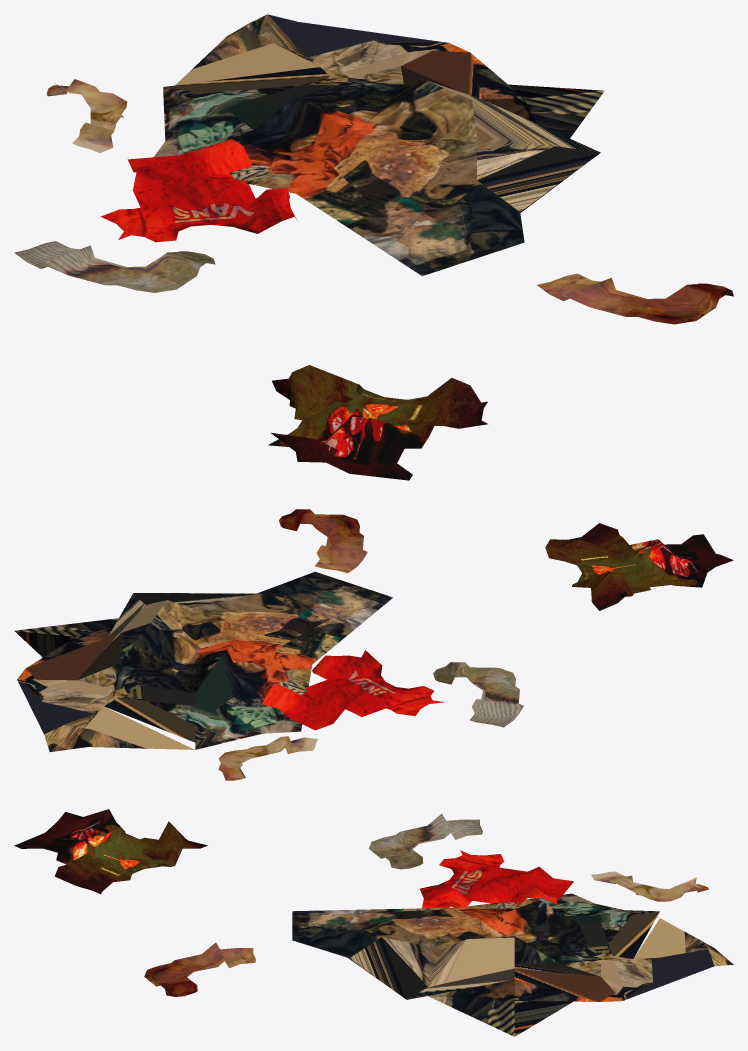
File: Clothes.glb
The picture shows the model from 3 angles, top to bottom: view 1: azimuth 30°, elevation 25°; view 2: azimuth 150°, elevation 25°; view 3: azimuth 270°, elevation 25°; orthographic projection. The views are drawn at different scales.
Parts seen in each view (by area): view 1: polySurface6, polySurface5, polySurface4, polySurface2, polySurface3, polySurface1; view 2: polySurface6, polySurface5, polySurface4, polySurface2, polySurface3, polySurface1; view 3: polySurface6, polySurface5, polySurface4, polySurface2, polySurface3, polySurface1.
Part boxes in pixels (<box>): polySurface6: <box>154,14,604,276</box>; polySurface5: <box>268,365,487,480</box>; polySurface4: <box>100,139,297,242</box>; polySurface2: <box>14,241,215,292</box>; polySurface3: <box>537,273,733,324</box>; polySurface1: <box>46,79,127,153</box>; polySurface6: <box>14,571,392,751</box>; polySurface5: <box>545,523,733,610</box>; polySurface4: <box>262,650,444,730</box>; polySurface2: <box>433,662,523,727</box>; polySurface3: <box>279,509,367,572</box>; polySurface1: <box>218,736,318,780</box>; polySurface6: <box>292,893,733,1036</box>; polySurface5: <box>14,809,207,893</box>; polySurface4: <box>420,850,573,908</box>; polySurface2: <box>369,814,482,869</box>; polySurface3: <box>144,942,255,996</box>; polySurface1: <box>591,871,709,901</box>.
Bounding box in the file's own units: 0.7372 × 0.0693 × 1.04.
6 materials, 6 textured.
